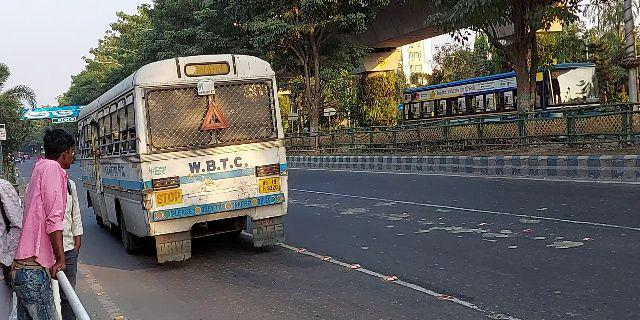Bus: (77, 52, 295, 261)
